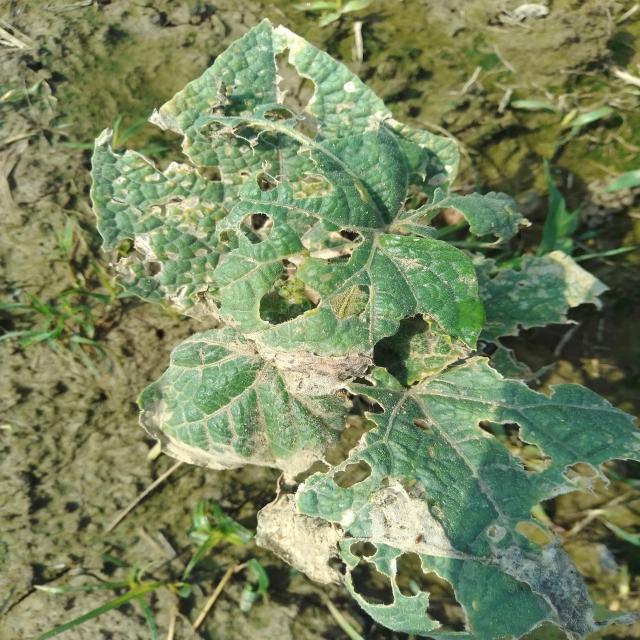cucumber_anthracnose: (97, 22, 548, 629)
